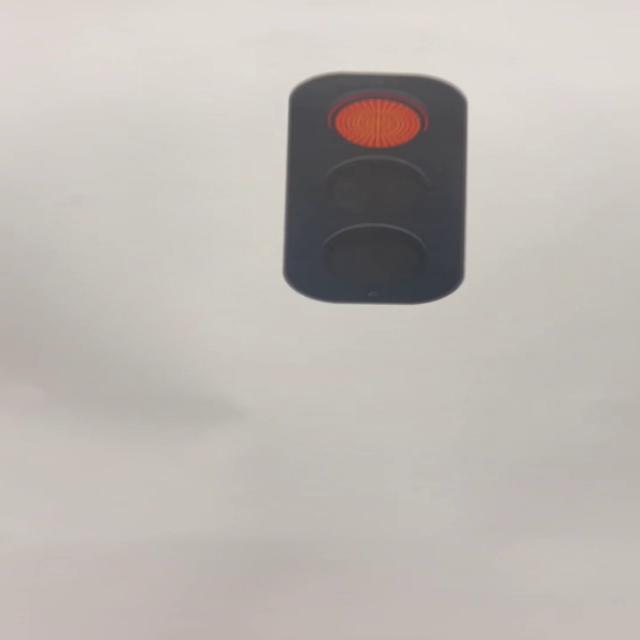red: (287, 67, 475, 306)
